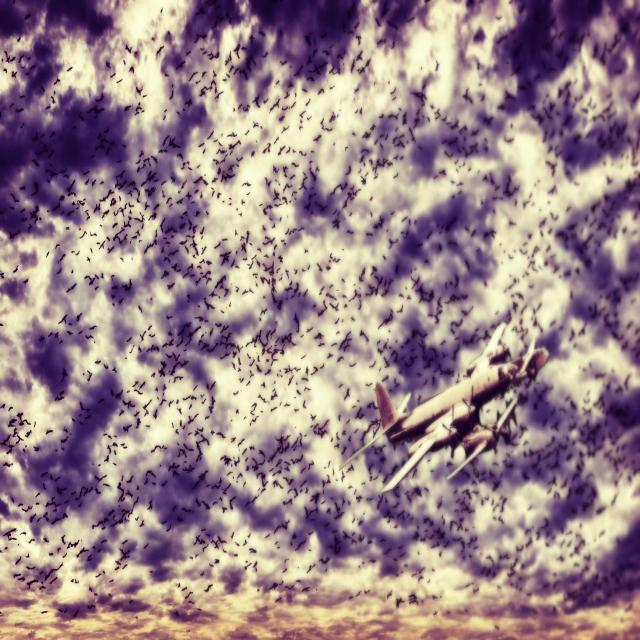airplane: (338, 320, 549, 494)
